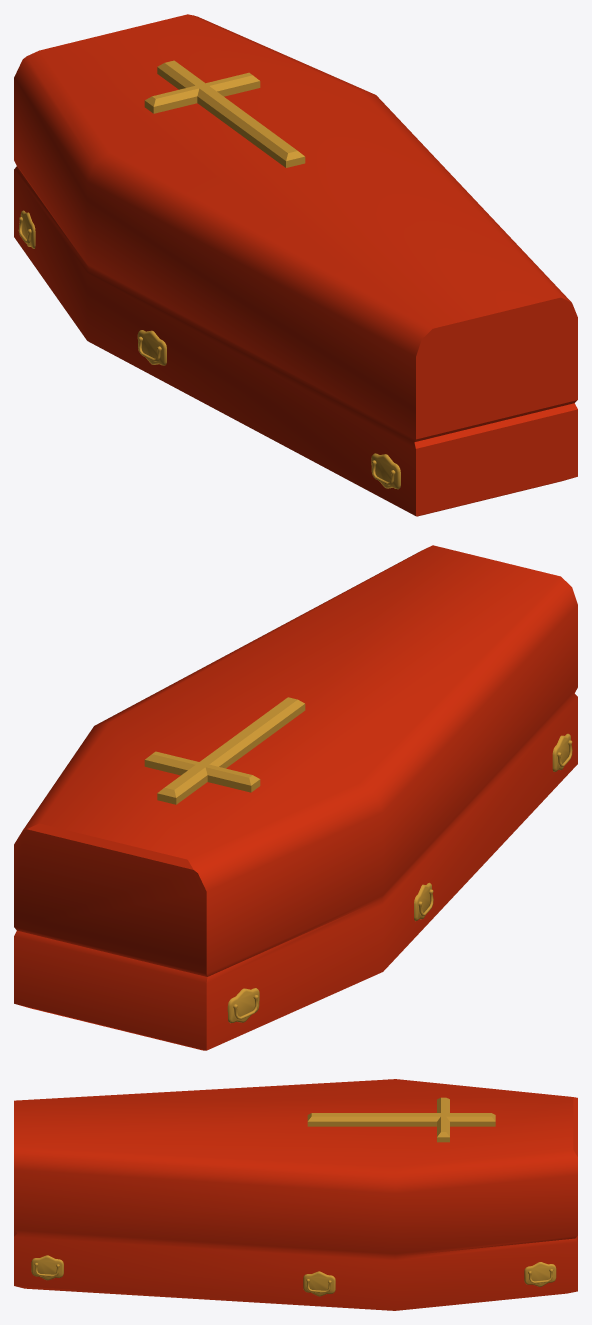
3 renders of one model, top to bottom at view 1: azimuth 30°, elevation 25°; view 2: azimuth 150°, elevation 25°; view 3: azimuth 270°, elevation 25°, orthographic. The views are drawn at different scales.
Visible parts, largest first — view 1: coffin_wood, coffin_metal; view 2: coffin_wood, coffin_metal; view 3: coffin_wood, coffin_metal.
Part boxes in pixels (bbox=[...]): coffin_wood: bbox=[14, 14, 577, 516]; coffin_metal: bbox=[18, 60, 400, 489]; coffin_wood: bbox=[14, 545, 577, 1050]; coffin_metal: bbox=[144, 697, 572, 1023]; coffin_wood: bbox=[14, 1079, 577, 1310]; coffin_metal: bbox=[31, 1097, 556, 1296].
Size of the model in its own units: 0.8835 by 0.5792 by 2.
